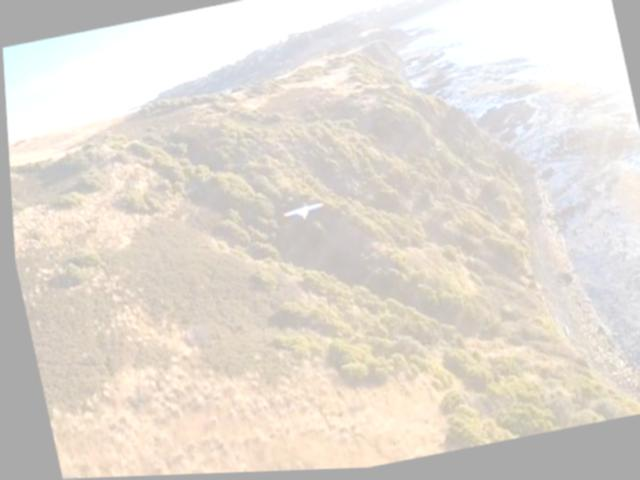uav: (274, 198, 325, 228)
